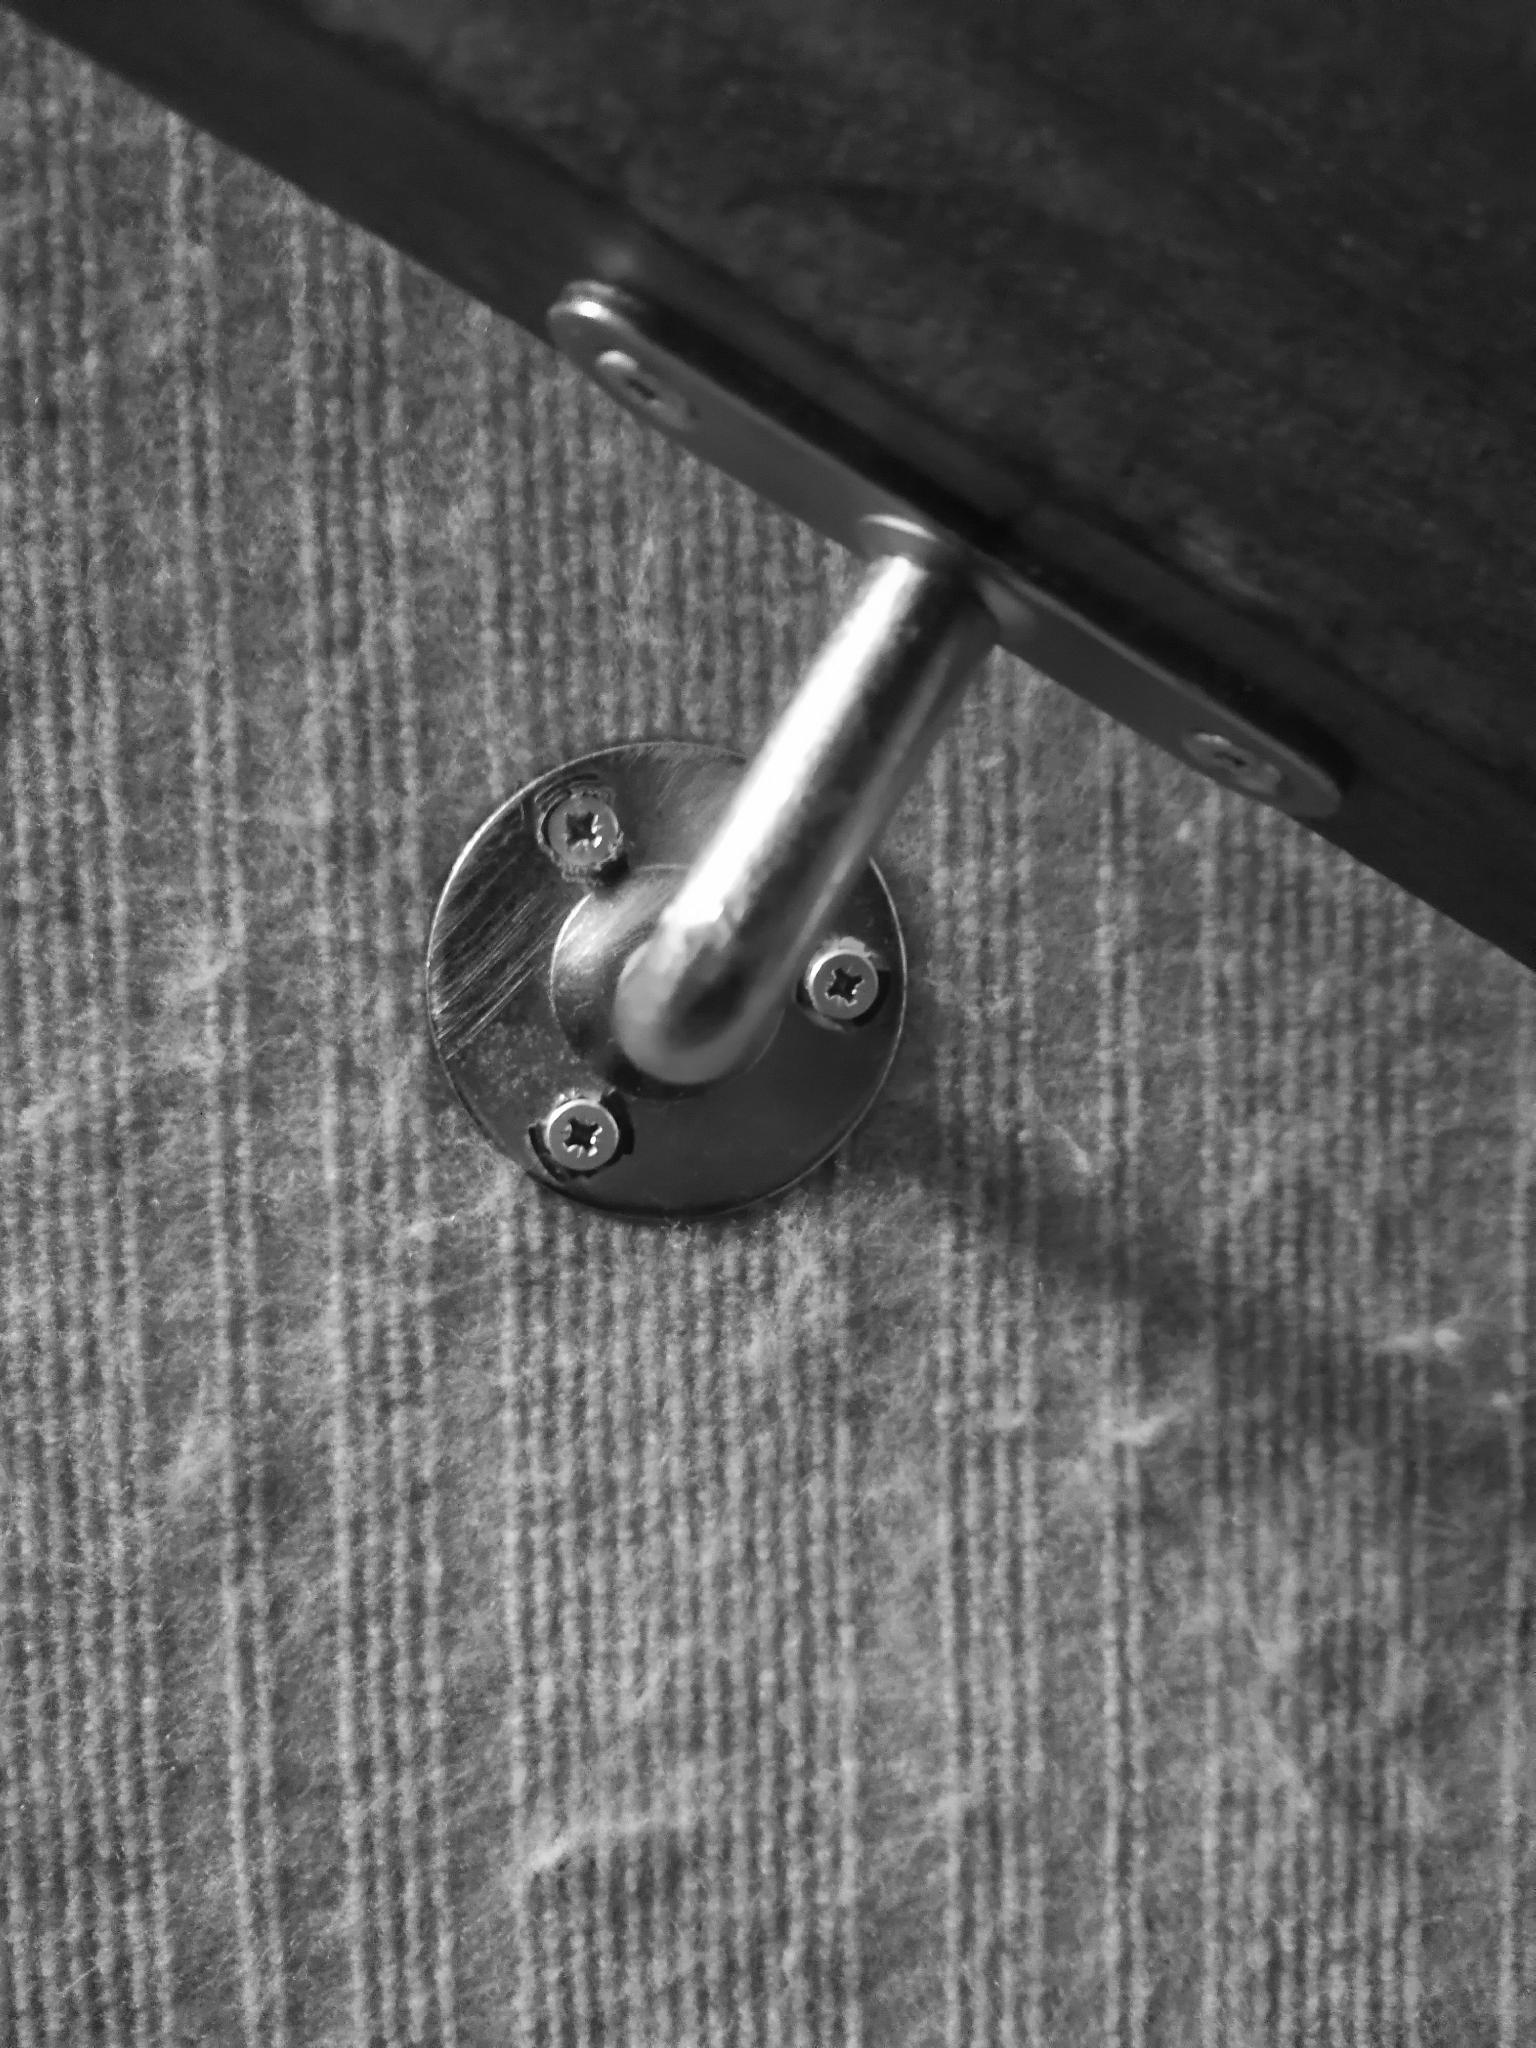philips-PZ: (531, 785, 632, 885), (537, 1092, 628, 1177), (803, 948, 886, 1029)
